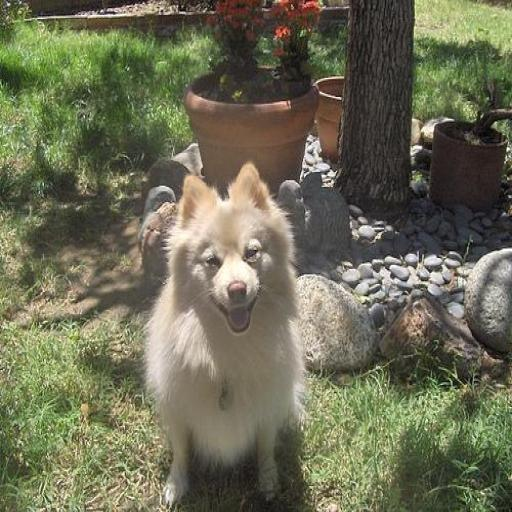dog_face: (178, 170, 279, 324)
